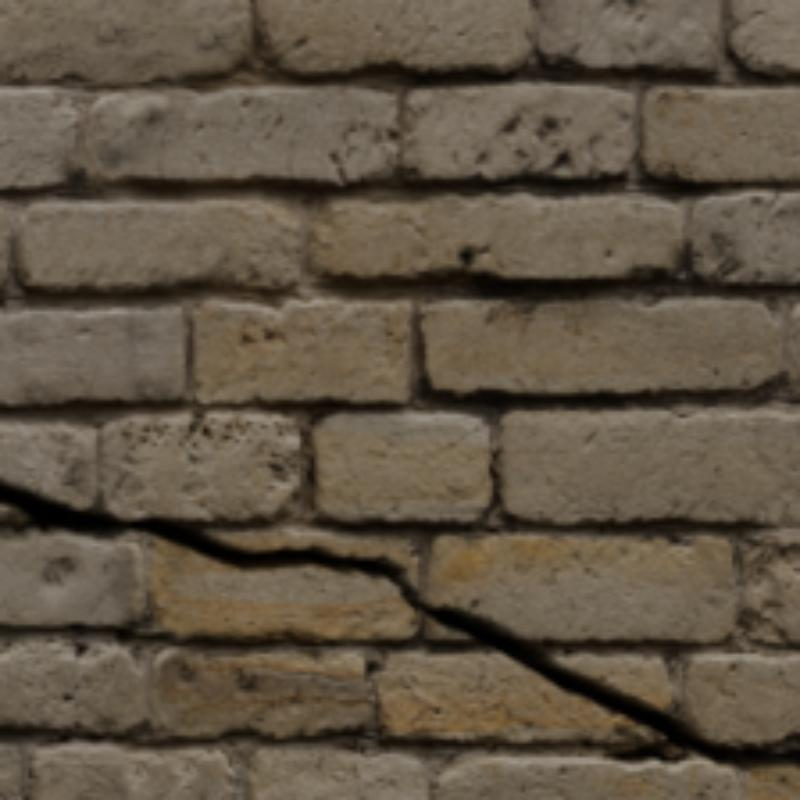crack: (0, 479, 796, 768)
